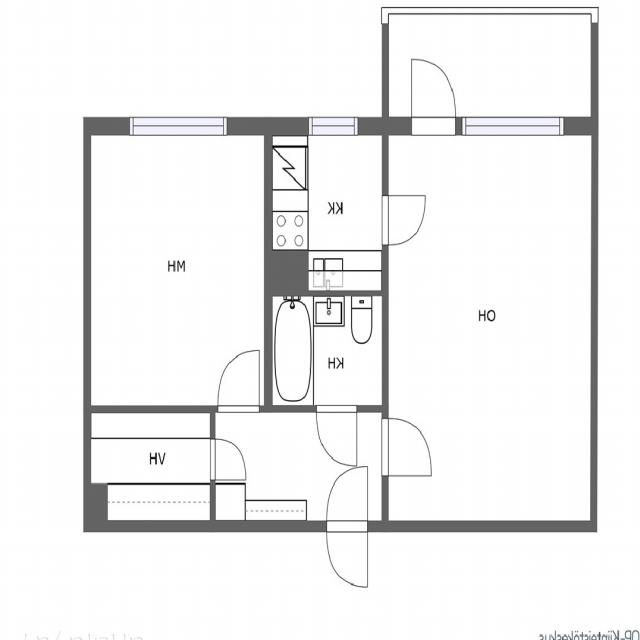door: (411, 59, 454, 135), (381, 418, 431, 476), (327, 521, 367, 586), (327, 467, 367, 532), (218, 350, 258, 412), (316, 406, 356, 465), (381, 196, 425, 244), (210, 439, 246, 480)
